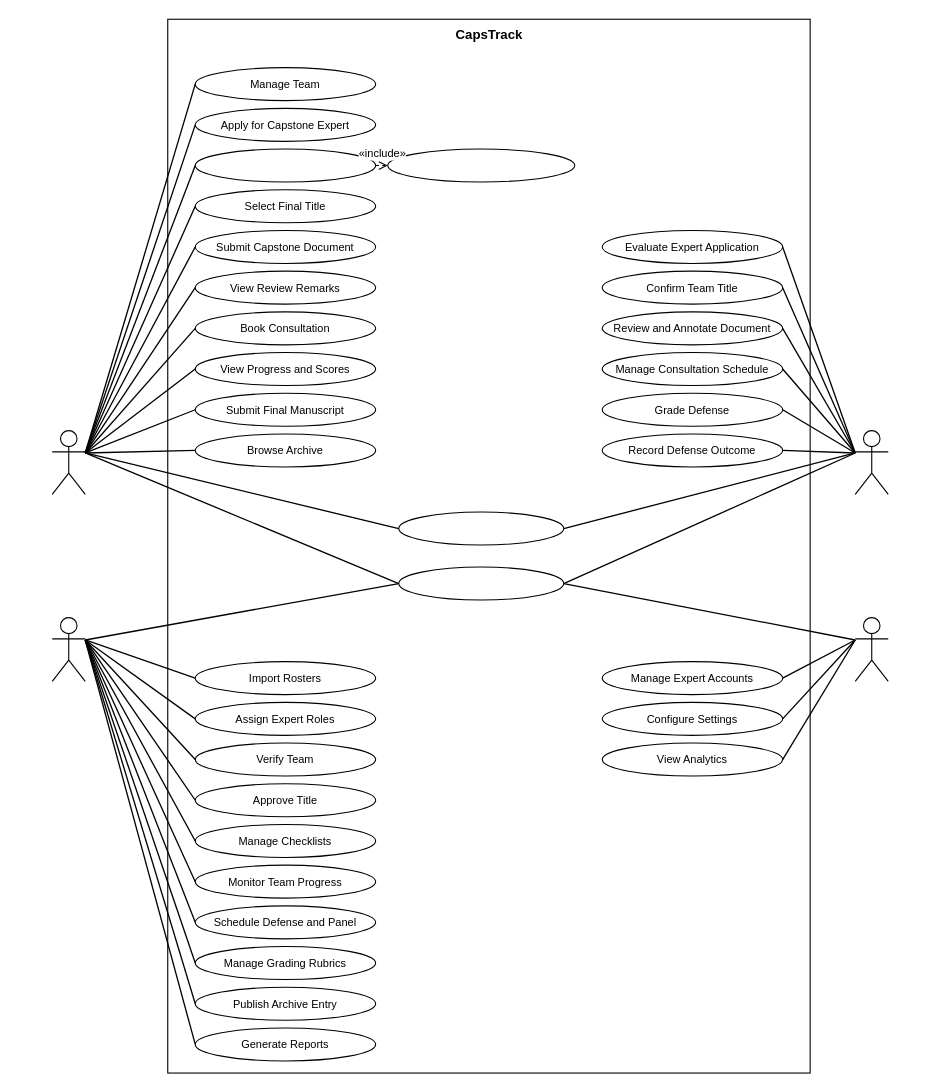
Image size: 939x1092. Some labels were removed from this diagram. Here are the shapes that lost their labels. From the top down, the box of each, then its label:
(194, 148, 376, 182): Submit Pre-Proposals
(387, 148, 575, 182): Run Duplication Check
(51, 430, 85, 494): Student
(854, 430, 888, 494): Capstone Expert
(398, 511, 564, 545): View Notifications
(398, 566, 564, 600): Sign in with Google
(51, 617, 85, 681): CaPSA
(854, 617, 888, 681): Administrator
